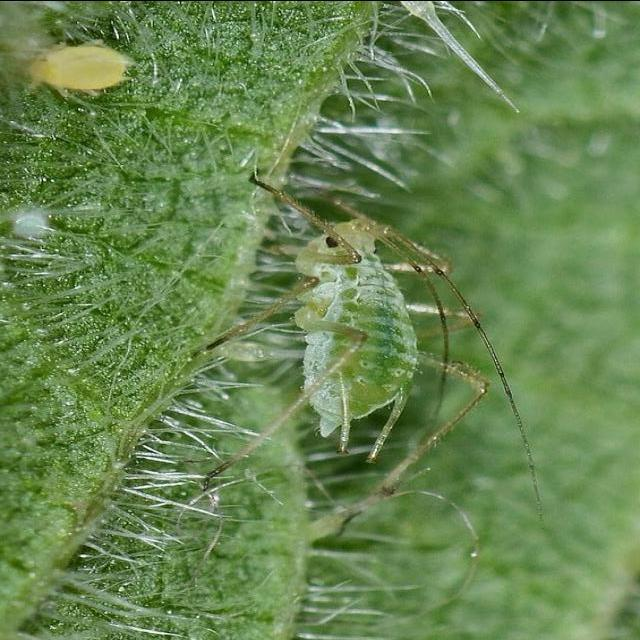aphid: (154, 142, 558, 538)
